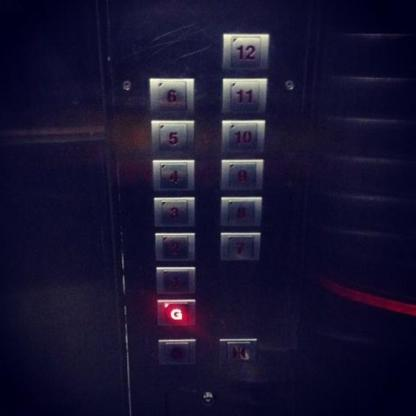1: (155, 265, 194, 297)
10: (220, 116, 265, 154)
11: (220, 74, 267, 112)
12: (222, 32, 268, 71)
2: (154, 232, 194, 264)
3: (151, 194, 194, 231)
4: (150, 159, 194, 193)
5: (149, 120, 195, 150)
6: (148, 77, 194, 115)
7: (219, 230, 260, 262)
8: (218, 195, 262, 230)
9: (221, 160, 264, 194)
G: (155, 298, 196, 327)
blur: (154, 336, 196, 367)
close: (216, 336, 256, 368)
